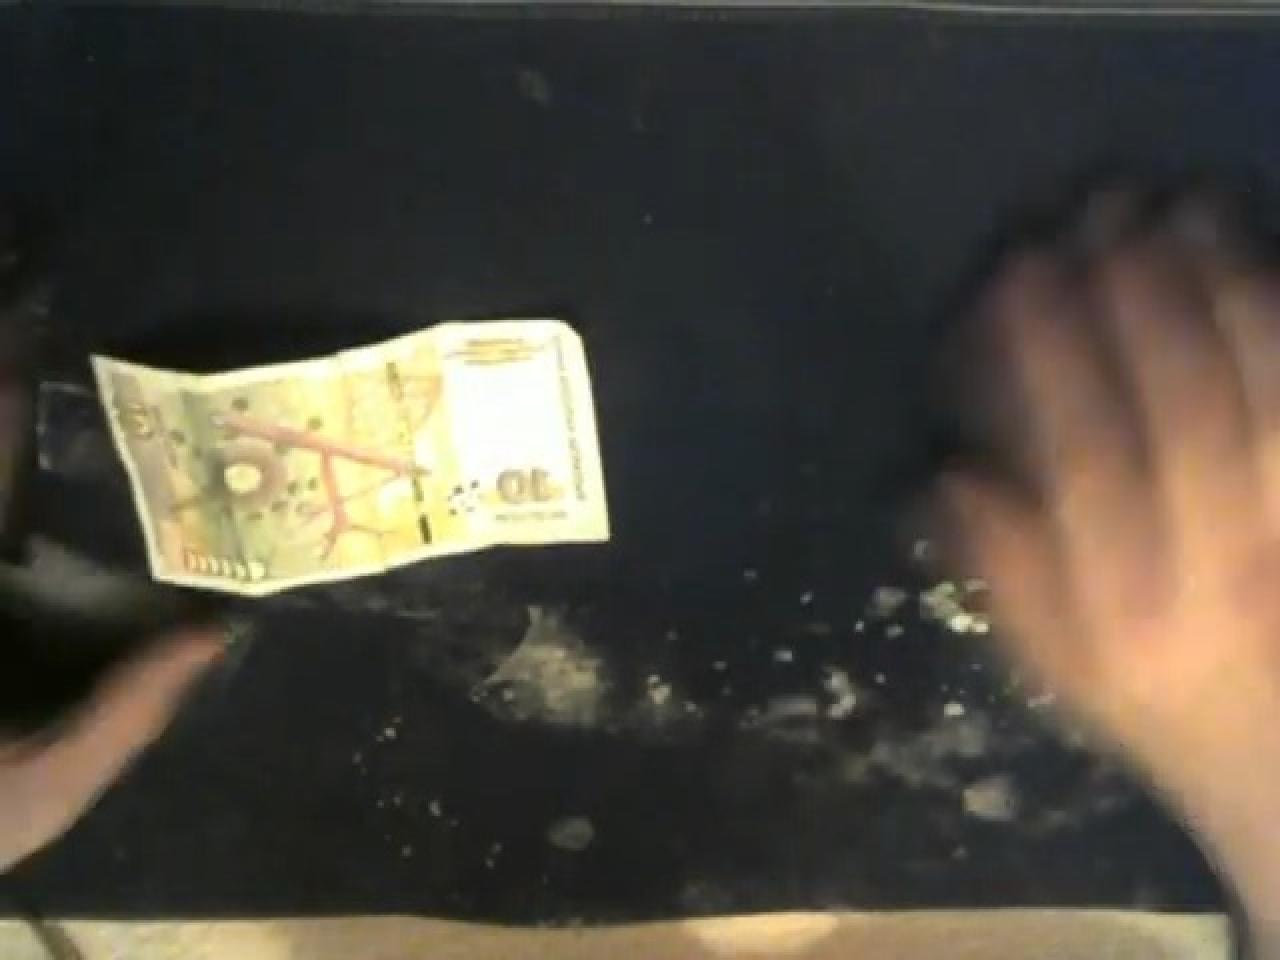10leva: (470, 434, 565, 515), (110, 386, 183, 452)
